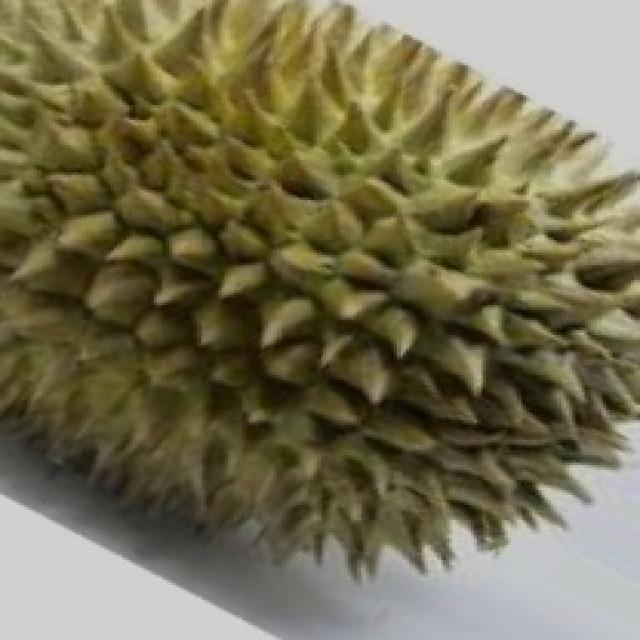fruit: (243, 255, 640, 633), (0, 247, 363, 625)
